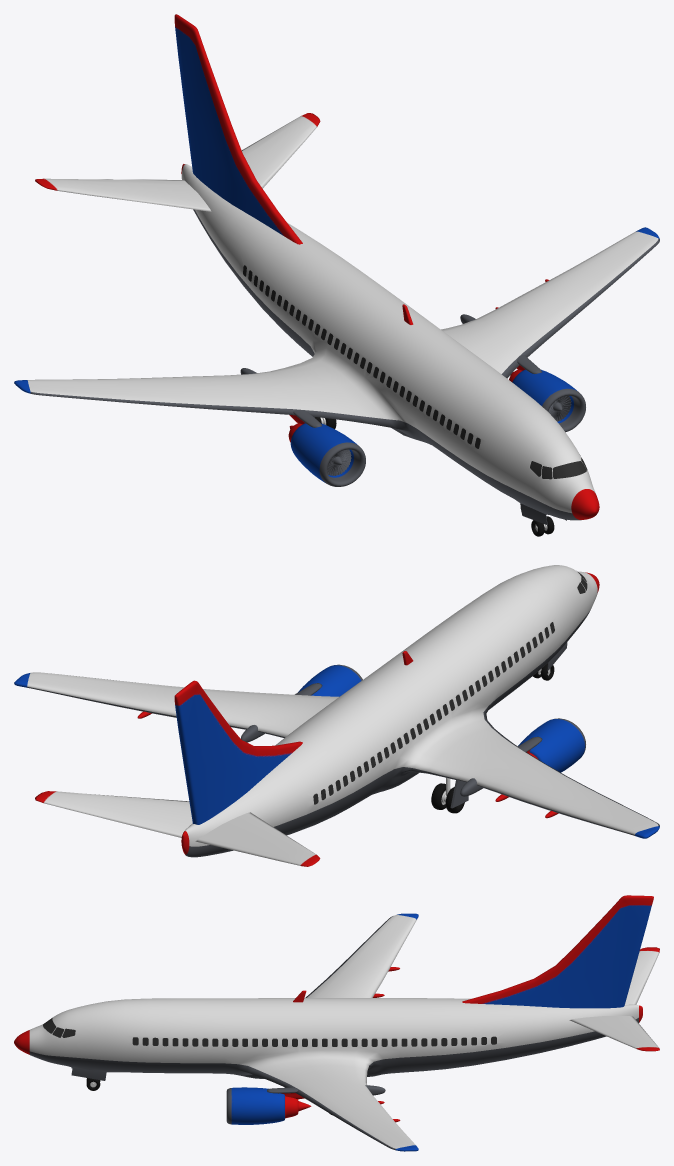
File: aeroplane.glb
3 renders of one model, top to bottom at view 1: azimuth 30°, elevation 25°; view 2: azimuth 150°, elevation 25°; view 3: azimuth 270°, elevation 25°, orthographic. The views are drawn at different scales.
Visible parts, largest first — view 1: Object_2, Object_3; view 2: Object_2, Object_3; view 3: Object_2, Object_3.
Boxes of the visible parts, x1,y1,x2,y2 form: Object_2: [14, 164, 659, 525]; Object_3: [35, 14, 585, 536]; Object_2: [14, 565, 659, 857]; Object_3: [35, 651, 585, 866]; Object_2: [14, 913, 642, 1151]; Object_3: [86, 895, 659, 1124].
Size of the model in its own units: 3.07 by 1.17 by 3.54.
1 material, 1 textured.
